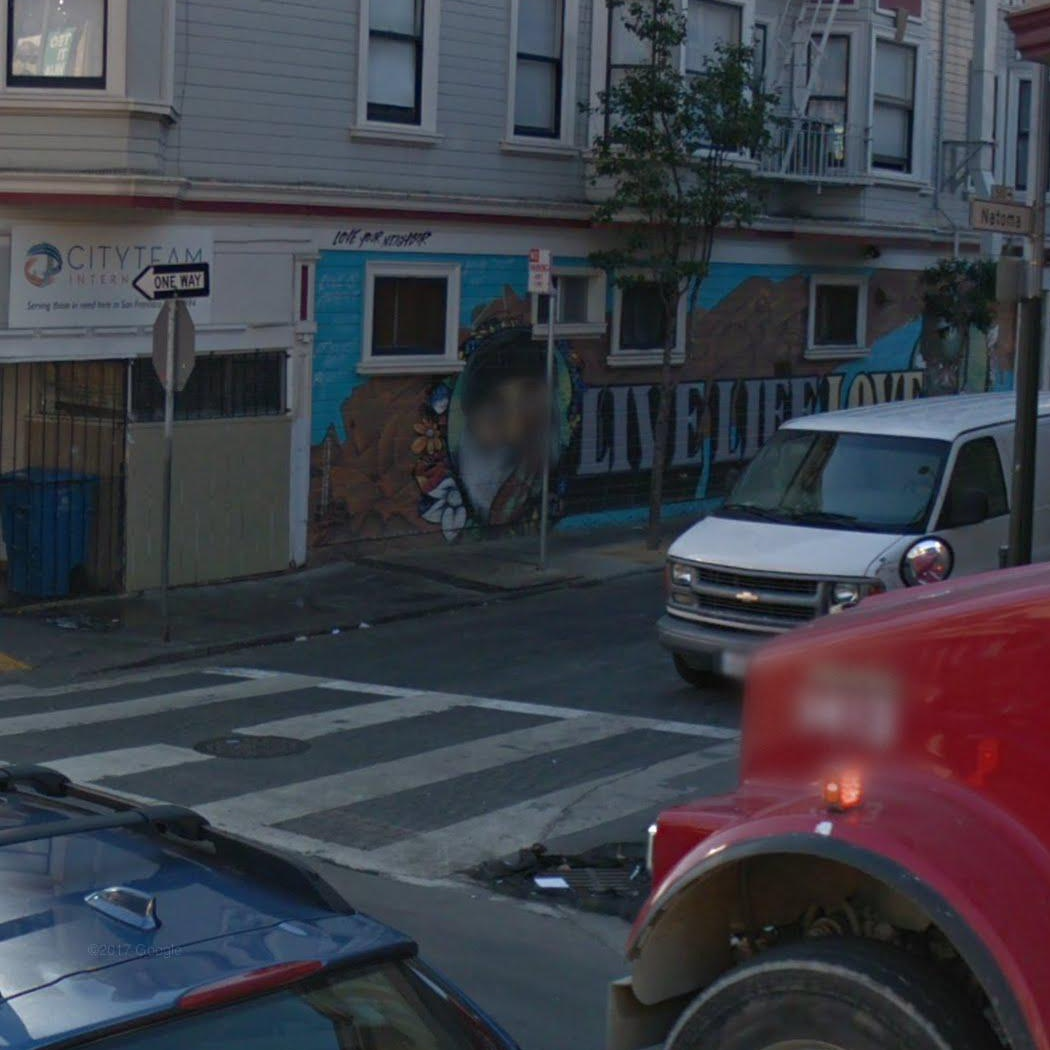No Parking Anytime: (526, 247, 552, 293)
